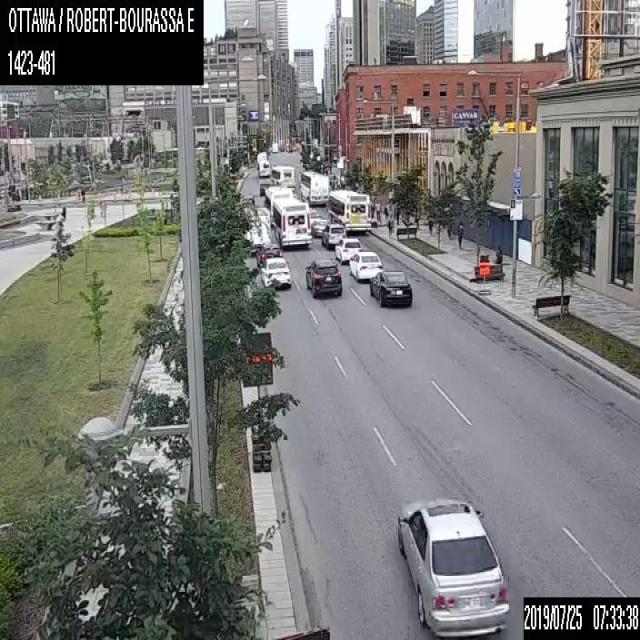bus: (270, 198, 311, 252), (326, 188, 370, 234), (264, 185, 293, 227), (299, 170, 328, 205), (270, 164, 294, 187), (257, 158, 270, 176), (256, 150, 266, 167), (271, 141, 277, 152)
construction: (239, 331, 272, 471), (478, 260, 489, 293)
pedestrian: (493, 241, 502, 272), (456, 220, 464, 248), (386, 213, 393, 236), (375, 200, 380, 220), (427, 220, 433, 233), (384, 205, 387, 219)
vehicle: (395, 493, 510, 639), (369, 266, 413, 306), (304, 257, 342, 297), (347, 250, 382, 282), (260, 256, 290, 288), (334, 237, 363, 264), (255, 243, 282, 266), (321, 224, 345, 248), (311, 216, 328, 236)
